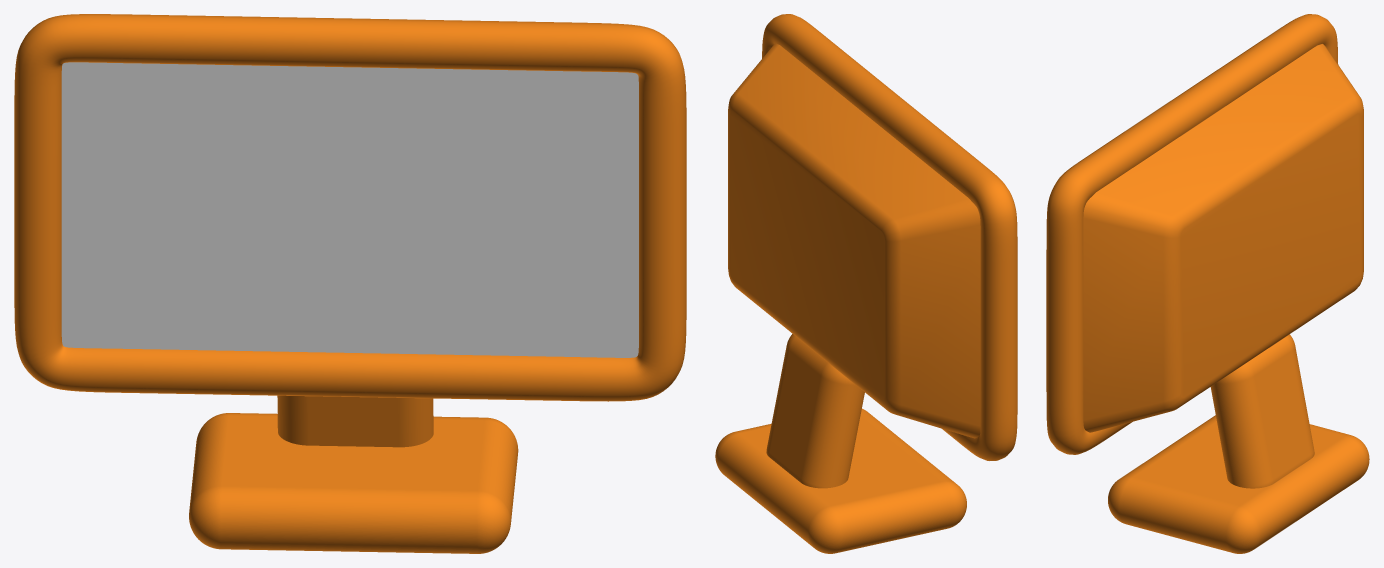
Rendered from television-3d-icon-1032896876844.glb.
The picture shows the model from 3 angles, left to right: view 1: azimuth 30°, elevation 25°; view 2: azimuth 150°, elevation 25°; view 3: azimuth 270°, elevation 25°; orthographic projection. The views are drawn at different scales.
Visible parts, largest first — view 1: Screen, Television; view 2: Television; view 3: Television.
Boxes of the visible parts, x1,y1,x2,y2 form: Screen: (61, 62, 638, 357); Television: (14, 14, 686, 553); Television: (715, 14, 1017, 553); Television: (1046, 14, 1369, 553).
Size of the model in its own units: 3.1 by 3.11 by 2.29.
